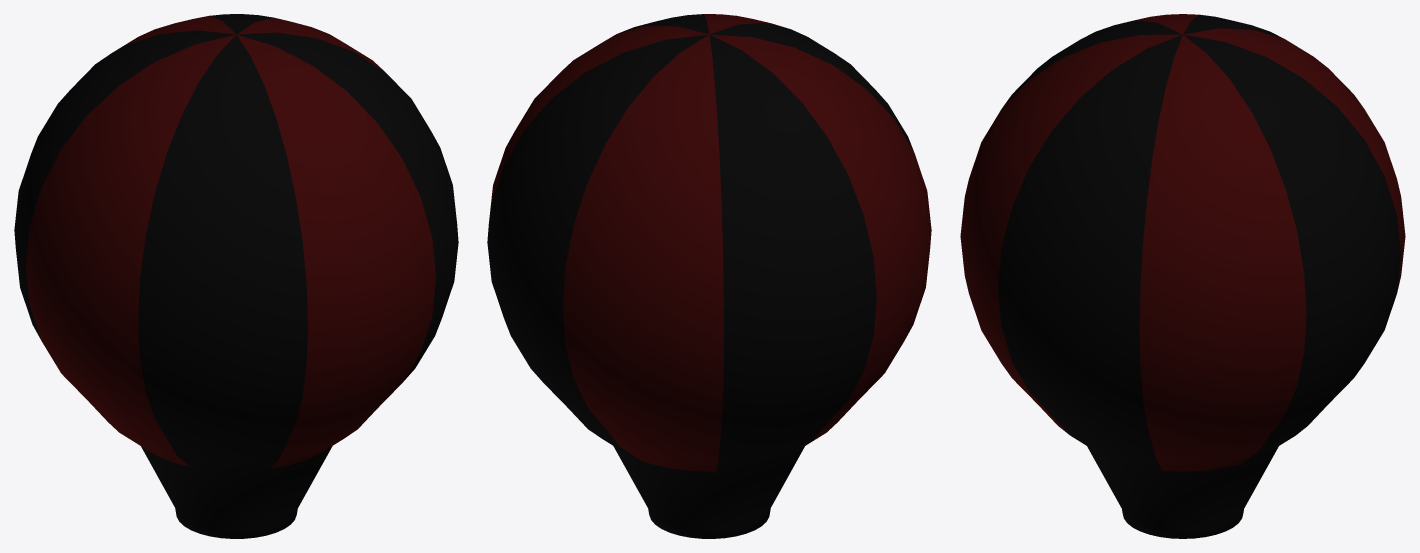
The model's file is ball.fbx.
The picture shows the model from 3 angles, left to right: view 1: azimuth 30°, elevation 25°; view 2: azimuth 150°, elevation 25°; view 3: azimuth 270°, elevation 25°; orthographic projection.
Visible parts, largest first — view 1: Sphere001; view 2: Sphere001; view 3: Sphere001.
Part boxes in pixels (left/top/right/bottom): Sphere001: left=14, top=14, right=458, bottom=538; Sphere001: left=487, top=14, right=931, bottom=538; Sphere001: left=960, top=14, right=1405, bottom=538.
Bounding box in the file's own units: 32 × 39.2 × 32.
